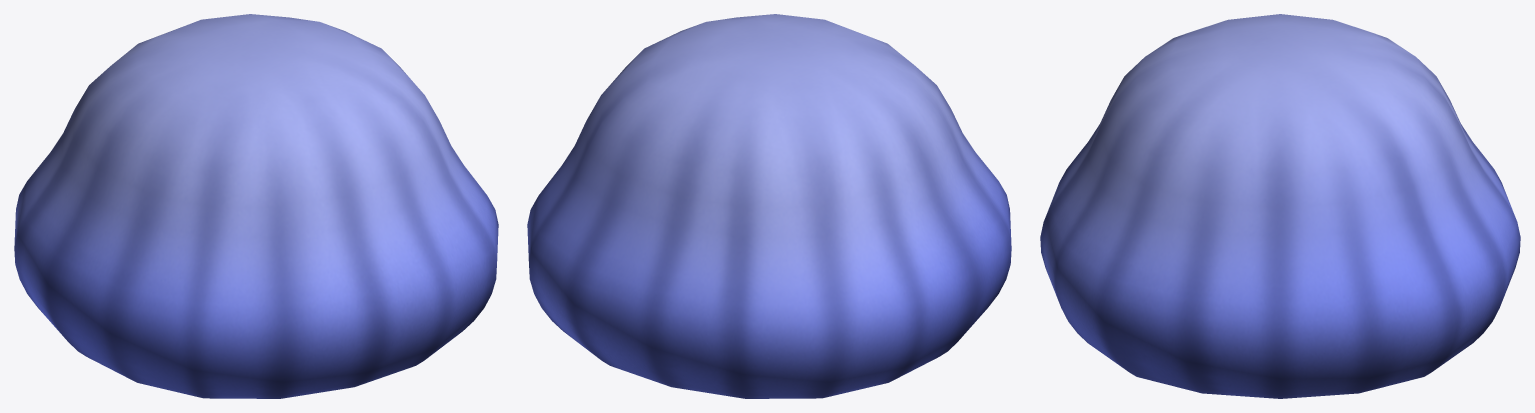
The model's file is jellyfish.fbx.
3 views of the same model, side by side, from view 1: azimuth 30°, elevation 25°; view 2: azimuth 150°, elevation 25°; view 3: azimuth 270°, elevation 25° (orthographic).
Visible parts, largest first — view 1: pCube1; view 2: pCube1; view 3: pCube1.
Boxes of the visible parts, x1=… form: pCube1: x1=14, y1=14, x2=498, y2=398; pCube1: x1=527, y1=14, x2=1011, y2=398; pCube1: x1=1040, y1=14, x2=1520, y2=398.
Bounding box in the file's own units: 922 × 578 × 922.
